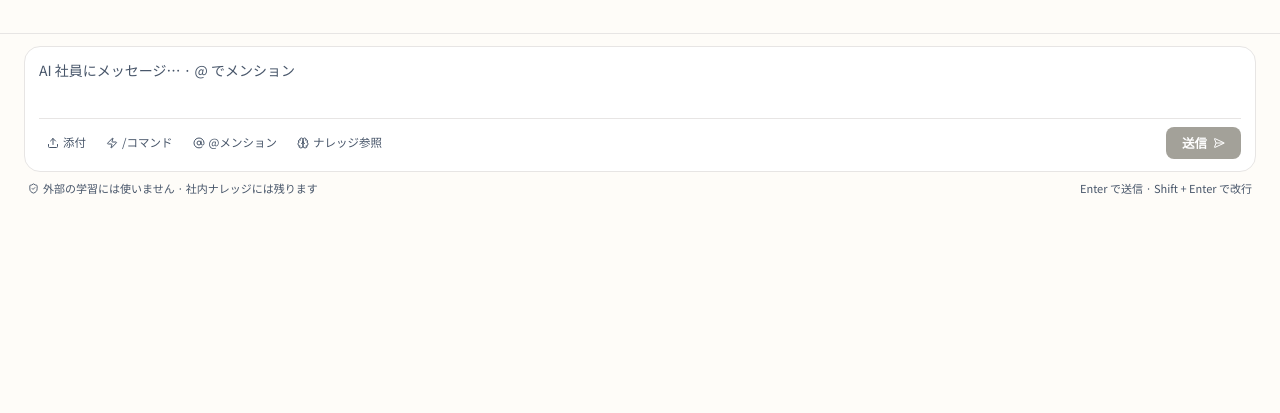
GAP-189 実行中の追い足し指示 › 生成中でも入力できて、送ると待ち行列に積まれる（取りこぼさない）
The width and height of the screenshot is (1280, 413).
Type "最初のお願い" into the text box named "メッセージを入力" at (640, 82), box [39,59,1241,104]
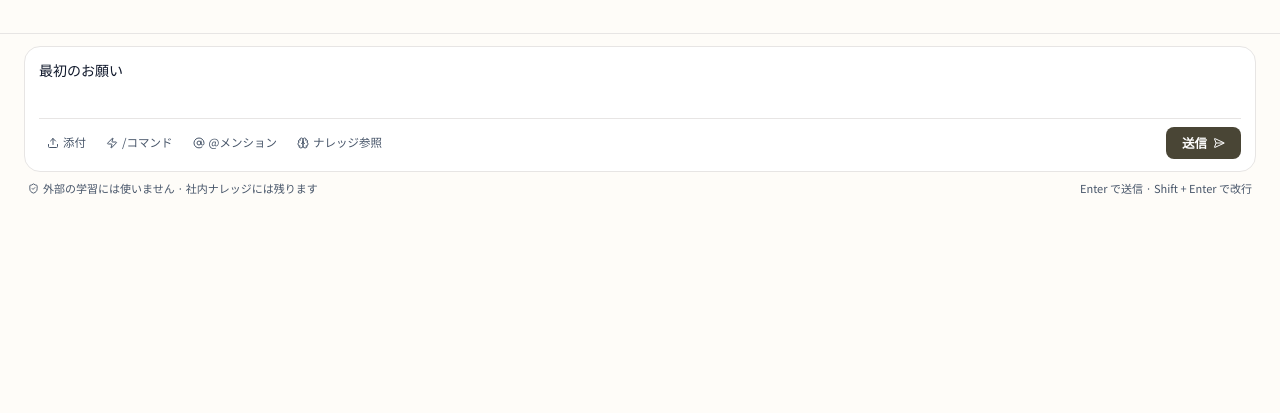
Click the button "送信" at (1204, 143), box [1166,126,1241,159]
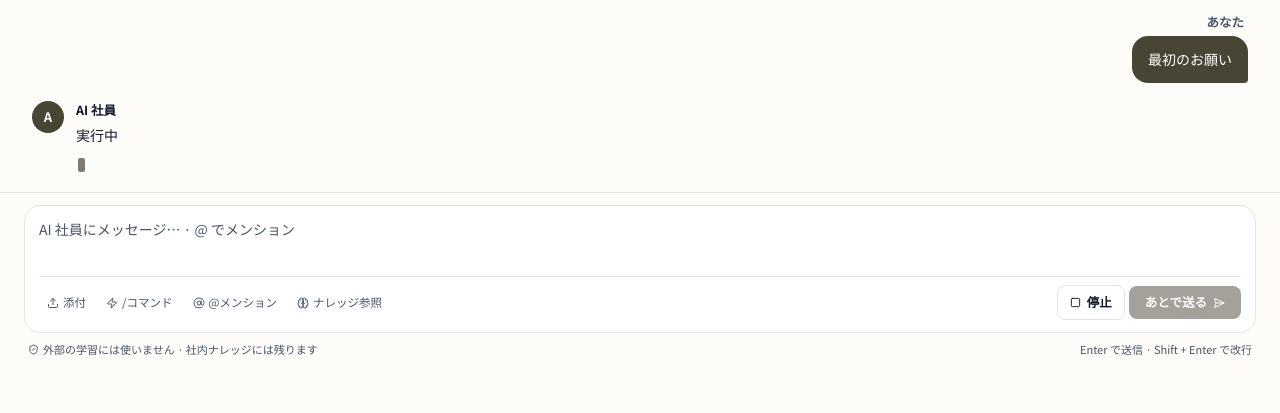
Result: the text "実行中" is shown at [76,125,118,145]
Type "やっぱり色は青で" into the text box named "メッセージを入力" at (640, 241), box [39,218,1241,263]
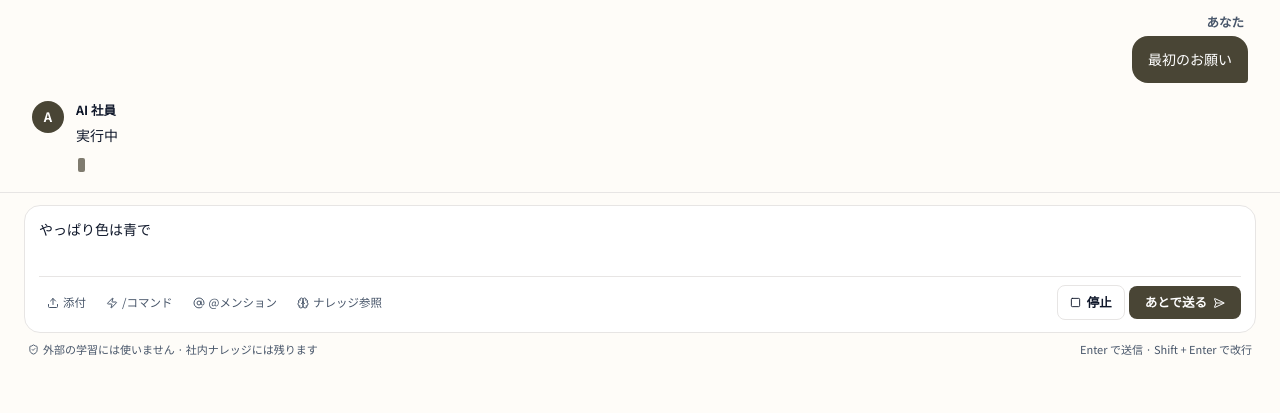
Click the button "あとで送る" at (1185, 303), box [1129,286,1241,319]
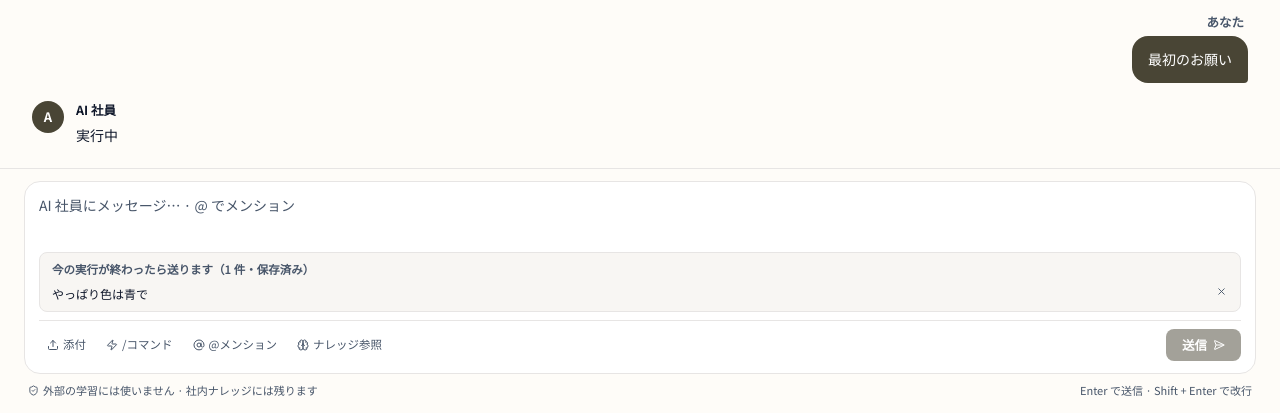
Result: the text "今の実行が終わったら送ります（1 件・保存済み）" is shown at [52,261,314,277]
Result: the text "やっぱり色は青で" is shown at [52,284,148,302]
